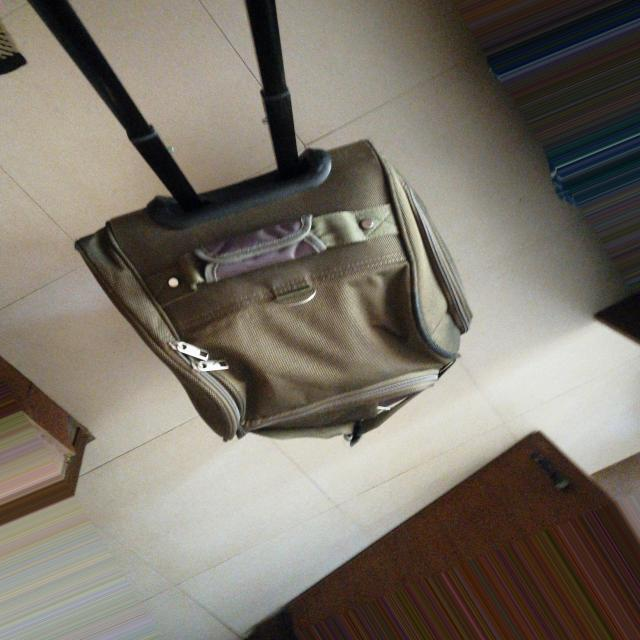Bag: (23, 4, 491, 470)
Handle: (20, 0, 328, 209)
